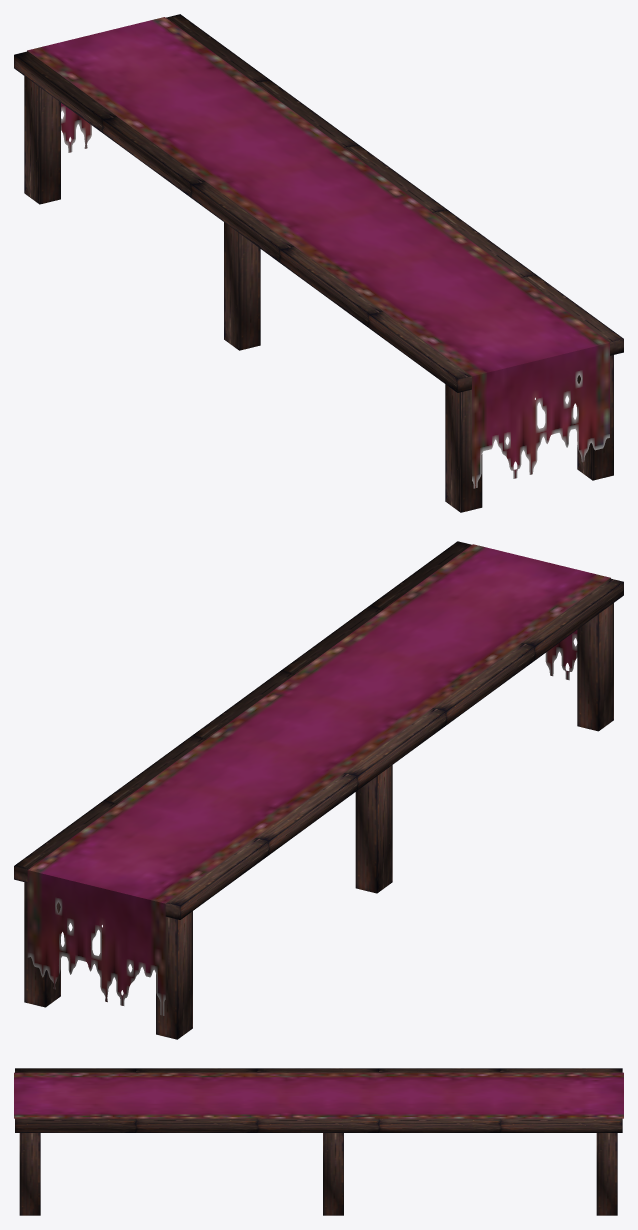
Rendered from table.obj.
3 renders of one model, top to bottom at view 1: azimuth 30°, elevation 25°; view 2: azimuth 150°, elevation 25°; view 3: azimuth 270°, elevation 25°, orthographic. The views are drawn at different scales.
Parts seen in each view (by area): view 1: Plane, Cube.008_Cube.013; view 2: Plane, Cube.008_Cube.013; view 3: Plane, Cube.008_Cube.013.
Part boxes in pixels (<box>): Plane: <box>27,17,609,488</box>; Cube.008_Cube.013: <box>14,14,623,512</box>; Plane: <box>27,544,610,1015</box>; Cube.008_Cube.013: <box>14,541,623,1039</box>; Plane: <box>14,1072,623,1118</box>; Cube.008_Cube.013: <box>15,1068,622,1215</box>.
Bounding box in the file's own units: 3.74 × 2.96 × 17.36.
